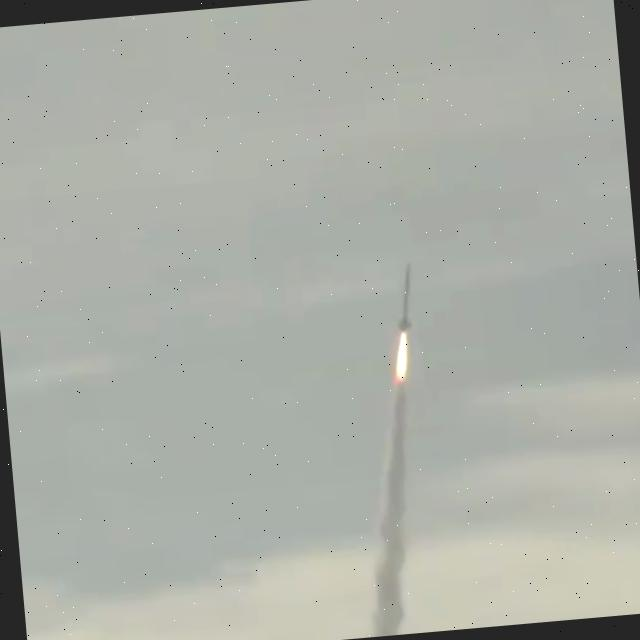smoke_trail_with_rocket: (370, 264, 413, 637)
